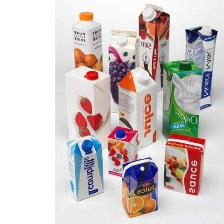carton: (63, 65, 113, 153), (116, 64, 159, 151), (160, 58, 204, 142), (135, 0, 170, 96), (61, 133, 108, 203), (160, 131, 210, 196), (183, 22, 219, 111), (106, 25, 140, 113), (120, 154, 160, 218), (67, 8, 103, 75), (105, 124, 141, 179)
